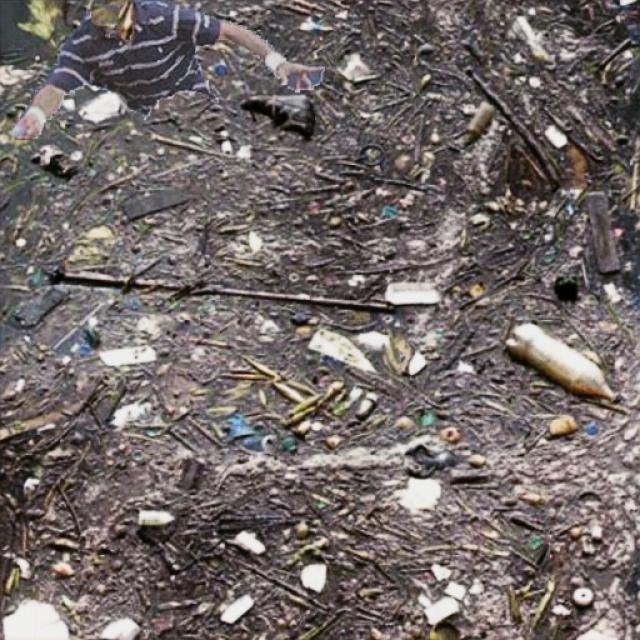Person in Rubble: (12, 0, 324, 139)
